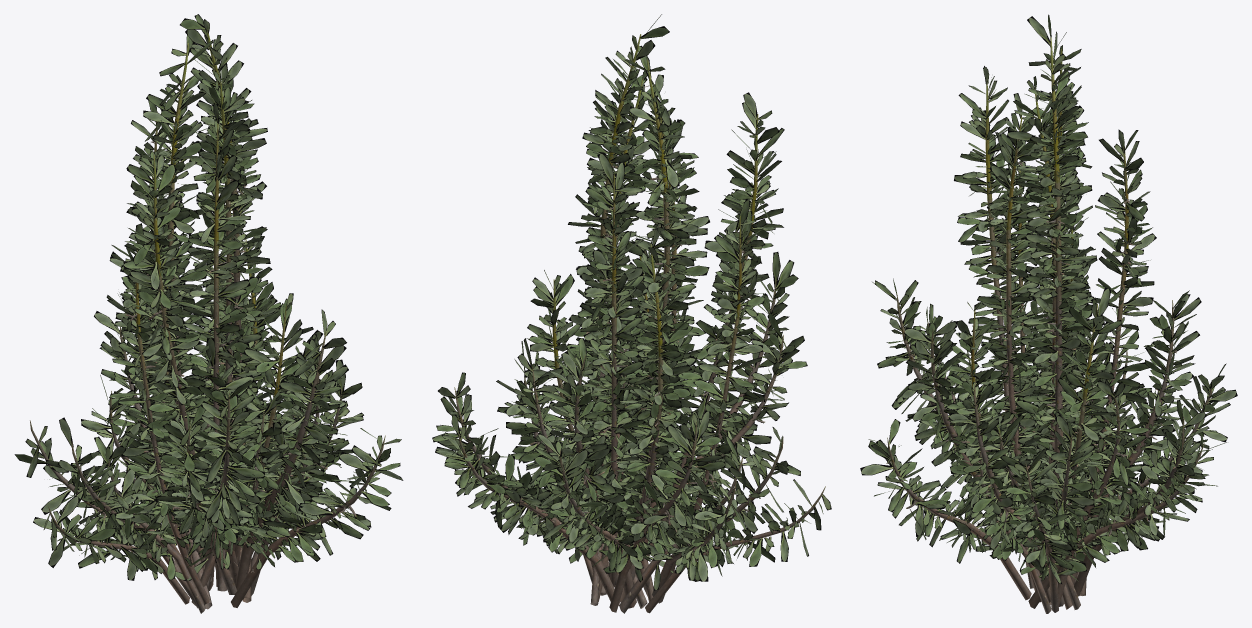
Rendered from othonna-b.glb.
The picture shows the model from 3 angles, left to right: view 1: azimuth 30°, elevation 25°; view 2: azimuth 150°, elevation 25°; view 3: azimuth 270°, elevation 25°; orthographic projection. The views are drawn at different scales.
Visible parts, largest first — view 1: othonna_cerarioides_b; view 2: othonna_cerarioides_b; view 3: othonna_cerarioides_b.
Part boxes in pixels (left/top/right/bottom): othonna_cerarioides_b: left=14, top=14, right=403, bottom=613; othonna_cerarioides_b: left=432, top=14, right=831, bottom=613; othonna_cerarioides_b: left=860, top=14, right=1237, bottom=613.
Size of the model in its own units: 1.01 by 1.77 by 1.05.
2 materials, 2 textured.
